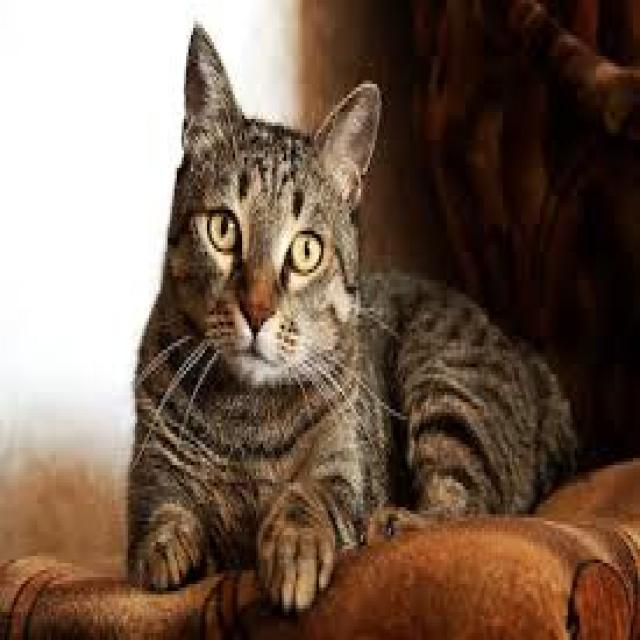Cat: (124, 17, 586, 618)
